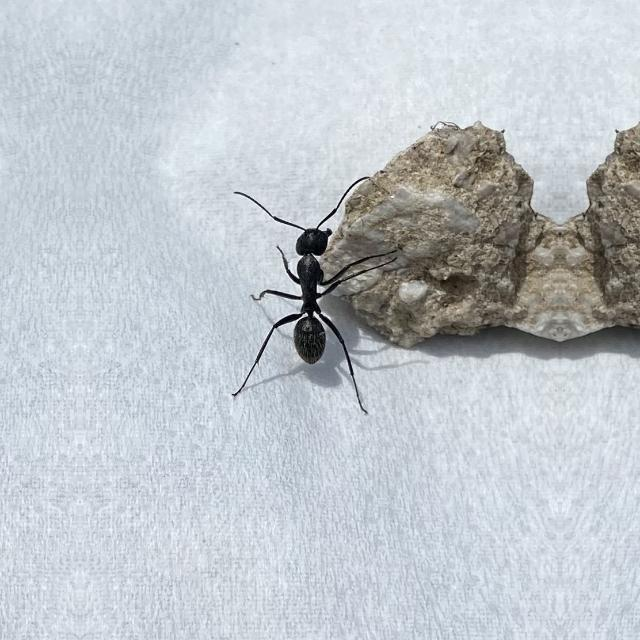Camponotus: (214, 181, 406, 409)
